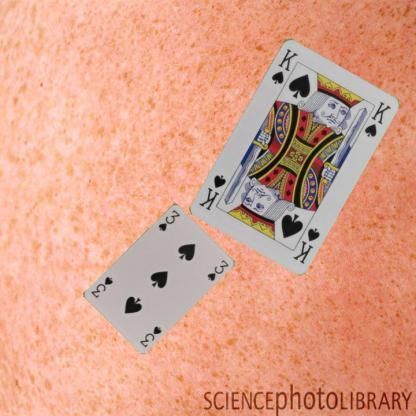3s: (137, 322, 163, 348), (156, 207, 181, 232)
Ks: (268, 45, 300, 86), (290, 224, 321, 264)
